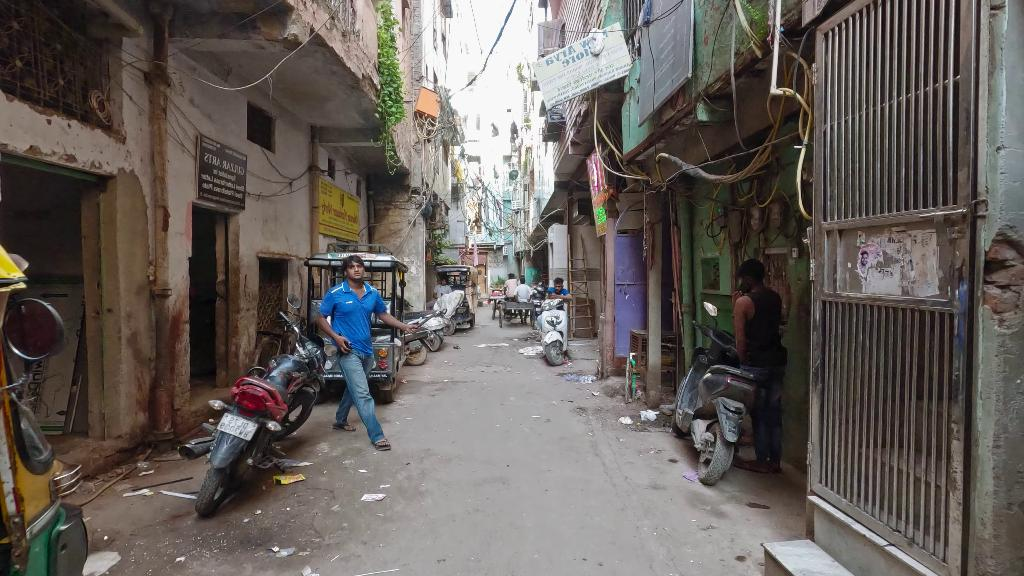garbage: (272, 473, 305, 486), (562, 374, 596, 382), (639, 409, 659, 422), (360, 493, 387, 502), (618, 416, 634, 425)
